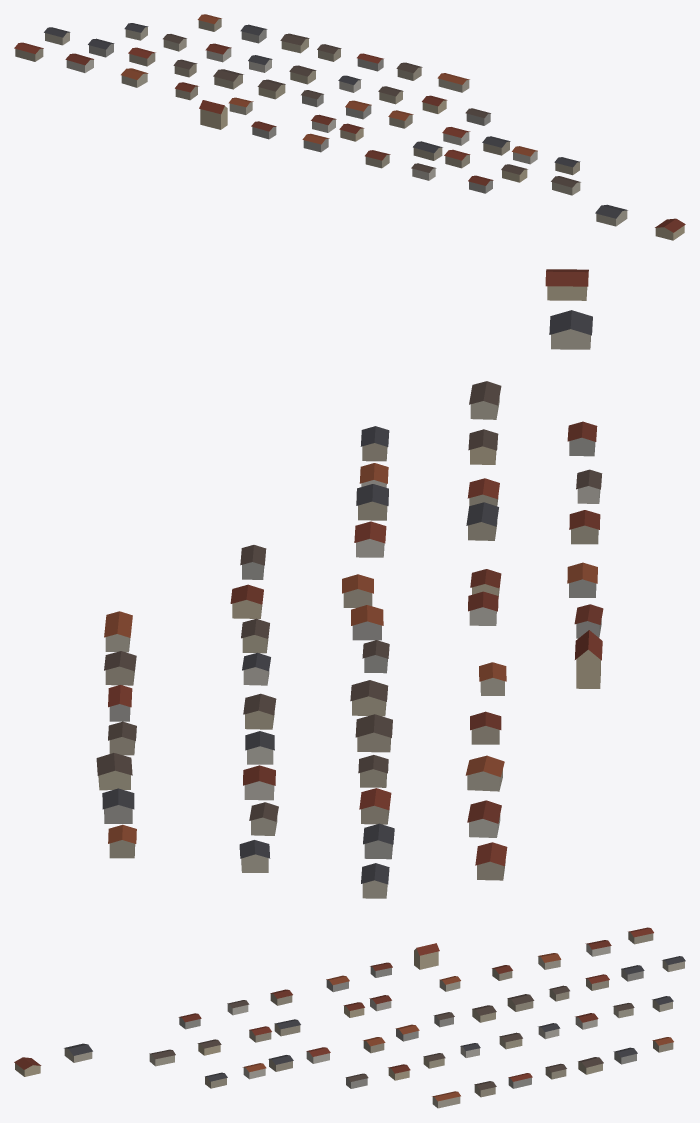
The picture shows the model from 3 angles, top to bottom: view 1: azimuth 30°, elevation 25°; view 2: azimuth 150°, elevation 25°; view 3: azimuth 270°, elevation 25°; orthographic projection. The views are drawn at different scales.
Visible parts, largest first — view 1: buildings; view 2: buildings; view 3: buildings.
Boxes of the visible parts, x1,y1,x2,y2 form: buildings: (14,14,685,240); buildings: (96,269,603,898); buildings: (14,927,685,1108).
Size of the model in its own units: 128 by 19.61 by 245.
